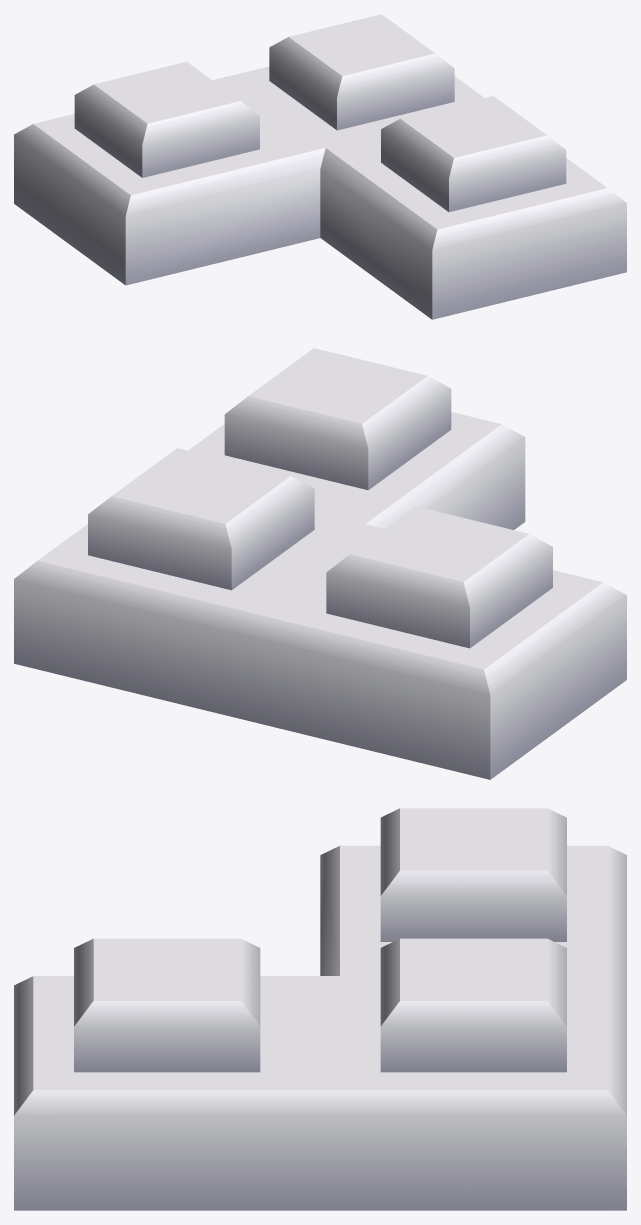
The model's file is square-hq-plate-corner.glb.
3 views of the same model, one above another, from view 1: azimuth 30°, elevation 25°; view 2: azimuth 150°, elevation 25°; view 3: azimuth 270°, elevation 25° (orthographic). The views are drawn at different scales.
Parts seen in each view (by area): view 1: square-hq-plate-corner; view 2: square-hq-plate-corner; view 3: square-hq-plate-corner.
Part boxes in pixels (left/top/right/bottom): square-hq-plate-corner: left=14, top=14, right=626, bottom=319; square-hq-plate-corner: left=14, top=348, right=626, bottom=779; square-hq-plate-corner: left=14, top=808, right=626, bottom=1210.
Bounding box in the file's own units: 0.159 × 0.05 × 0.158.
Materials: 1 (1 with a texture image).
